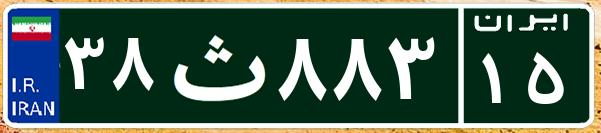1: (475, 38, 525, 113)
3: (385, 28, 445, 110), (57, 26, 110, 107)
5: (525, 38, 570, 115)
8: (273, 28, 330, 110), (330, 28, 385, 110), (110, 28, 158, 105)
ث: (158, 15, 273, 115)
